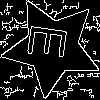E: (27, 22, 77, 62)
